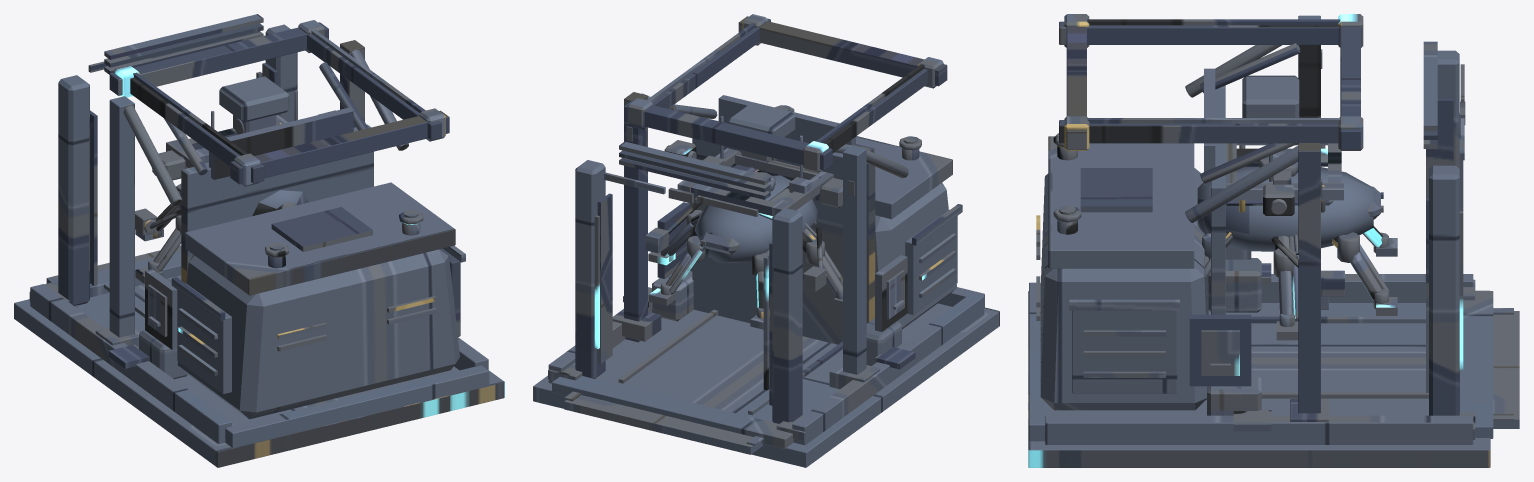
Rendered from ArachnidHexapodFactory_Atlas.fbx.
3 renders of one model, left to right at view 1: azimuth 30°, elevation 25°; view 2: azimuth 150°, elevation 25°; view 3: azimuth 270°, elevation 25°, orthographic. The views are drawn at different scales.
Visible parts, largest first — view 1: ArachnidHexapodFactory_UnifiedMesh; view 2: ArachnidHexapodFactory_UnifiedMesh; view 3: ArachnidHexapodFactory_UnifiedMesh.
Part boxes in pixels (<box>): ArachnidHexapodFactory_UnifiedMesh: <box>14,14,504,467</box>; ArachnidHexapodFactory_UnifiedMesh: <box>533,14,999,467</box>; ArachnidHexapodFactory_UnifiedMesh: <box>1028,14,1519,467</box>.
Size of the model in its own units: 334 by 309 by 431.
Materials: 1 (1 with a texture image).
